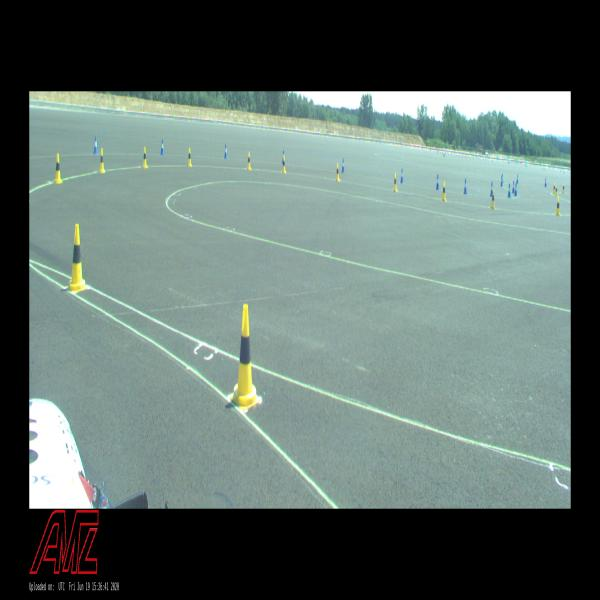blue_cone: (93, 136, 98, 154), (160, 139, 165, 154), (224, 144, 228, 159), (341, 159, 345, 172), (436, 174, 439, 191), (464, 179, 467, 194), (400, 168, 403, 183), (508, 183, 511, 198), (490, 182, 493, 196), (282, 150, 284, 164), (515, 183, 517, 196), (512, 181, 514, 192), (500, 176, 502, 187), (502, 173, 504, 184), (544, 178, 546, 187), (517, 174, 518, 182)
yellow_cone: (230, 304, 259, 410), (68, 224, 85, 290), (54, 154, 62, 183), (99, 149, 106, 173), (143, 146, 148, 168), (442, 181, 446, 201), (491, 190, 495, 209), (188, 148, 192, 166), (247, 152, 251, 170), (556, 198, 560, 215), (393, 174, 397, 191), (282, 156, 286, 173), (336, 164, 340, 180), (555, 185, 557, 195), (553, 183, 555, 193), (562, 184, 564, 193)
